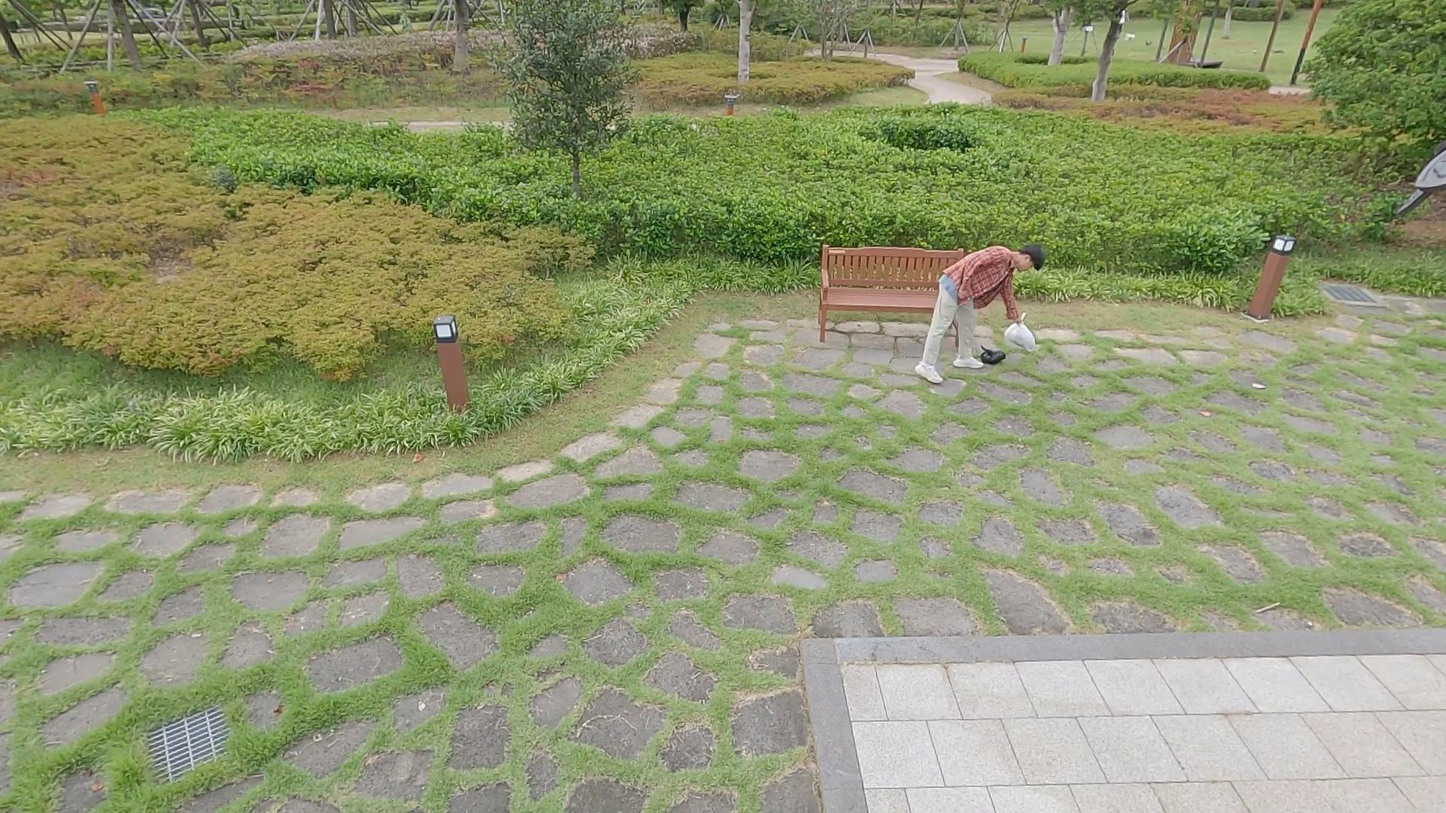person: (913, 235, 1043, 385)
trash: (1004, 309, 1039, 351), (976, 348, 1006, 367)
